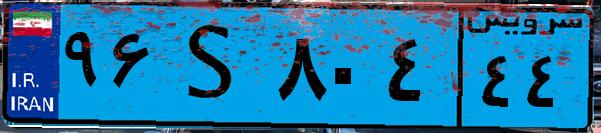0: (330, 28, 385, 110)
4: (385, 28, 445, 110), (475, 38, 525, 113), (525, 38, 570, 115)
6: (110, 28, 158, 98)
8: (270, 28, 330, 110)
9: (57, 26, 110, 100)
S: (158, 12, 270, 120)
